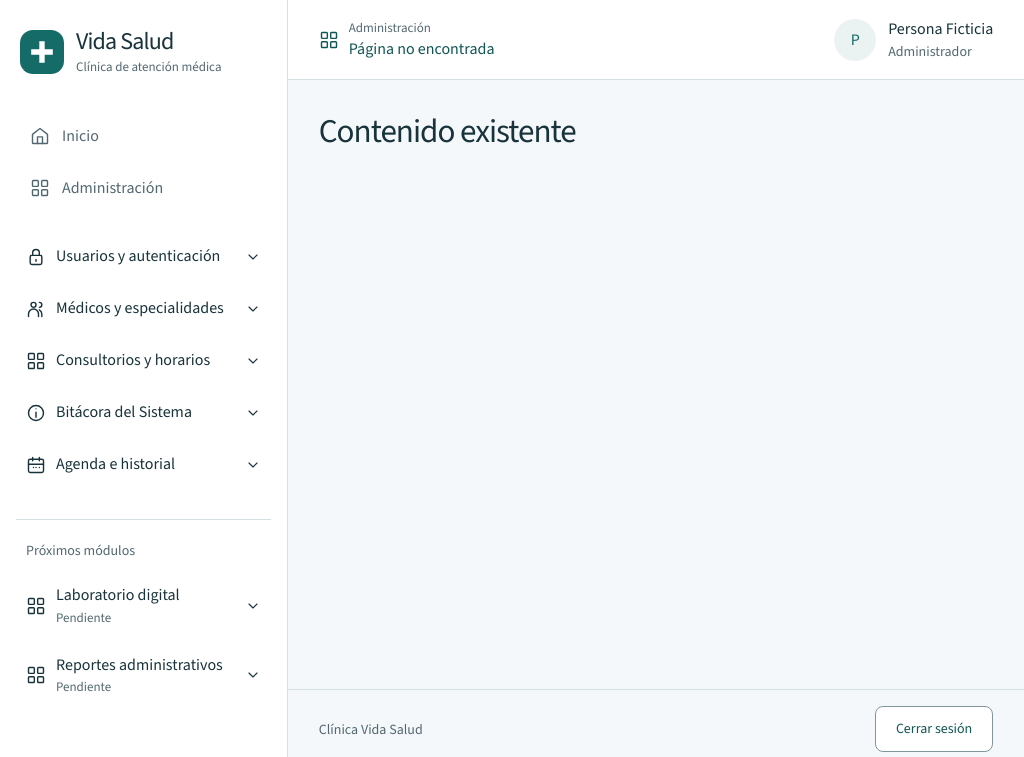
Test: sidebar modular y orientación › Administrador puede desplegar sus módulos sin CU visibles ni funciones ajenas
The image size is (1024, 757).
Expected: the link "Gestionar médicos" is not shown
Click the button "Médicos y especialidades" at (144, 309), box x1=16 y1=285 x2=271 y2=333
(page scrolled)
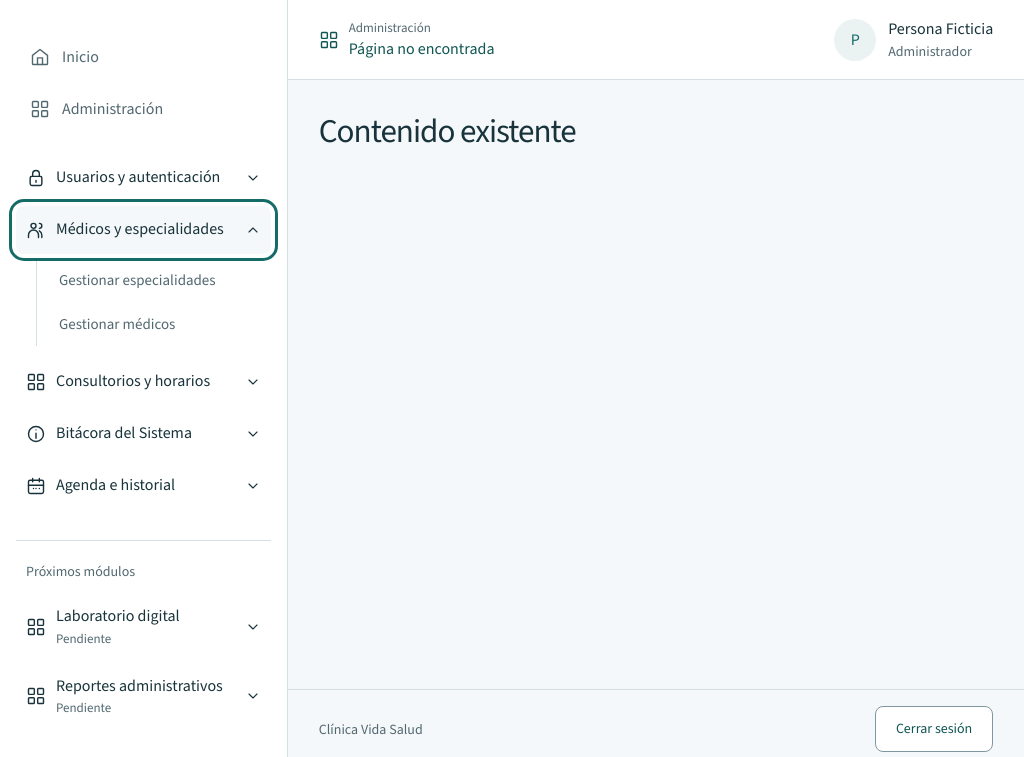
Expected: the number of buttons "Cerrar sesión" is 1, x1=875 y1=706 x2=993 y2=752
Expected: the button "Médicos y especialidades" is expanded, x1=16 y1=206 x2=271 y2=254
Expected: the link "Gestionar médicos" is shown, x1=59 y1=314 x2=175 y2=334
